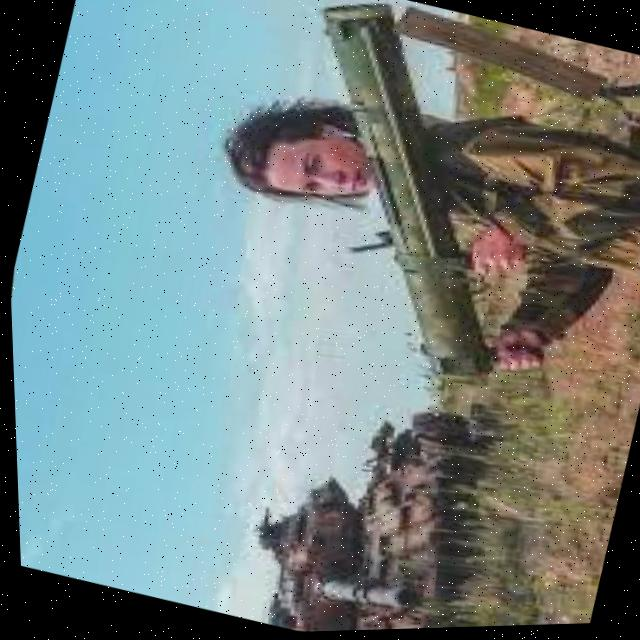rocket: (221, 0, 581, 419)
